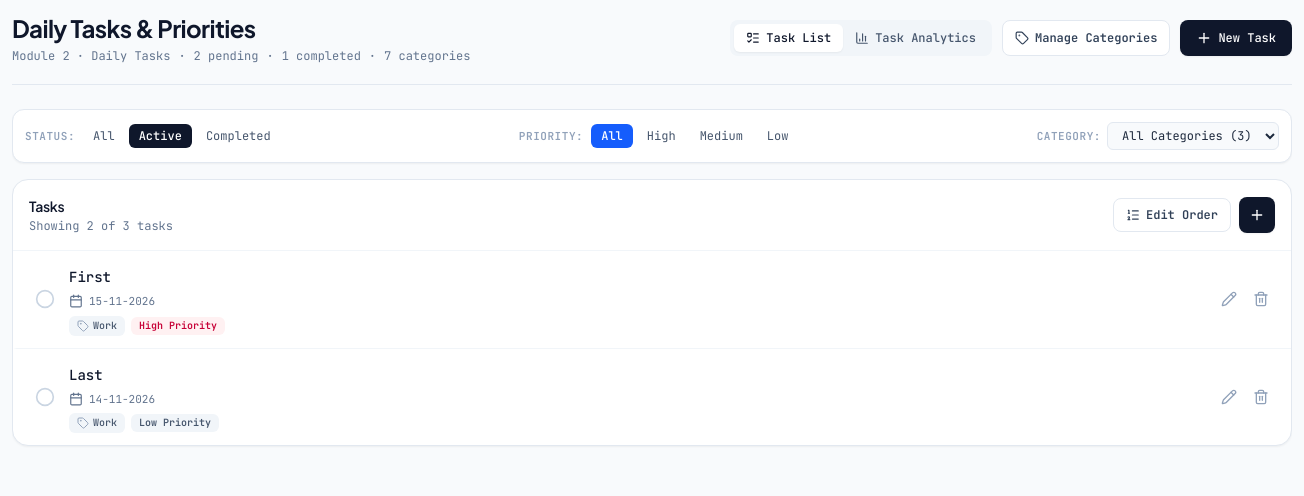
Test case: task ordering › shows a failure when saving order fails
Click the button "Edit Order".
click(1172, 215)  # box left=1113, top=198, right=1231, bottom=232
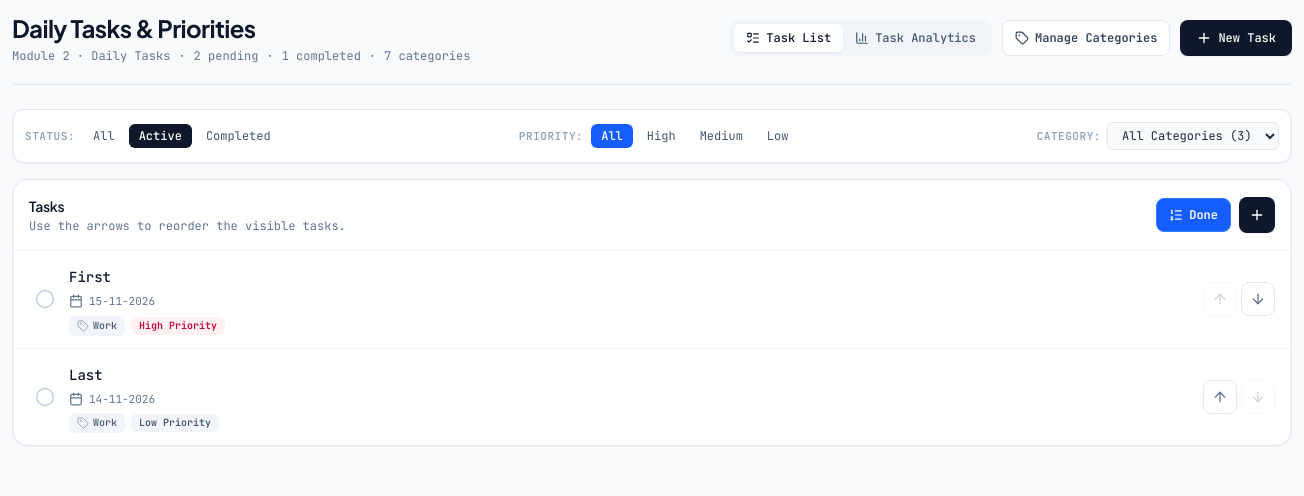
Click the button named "Move First down".
click(1258, 299)  # box left=1241, top=282, right=1275, bottom=316
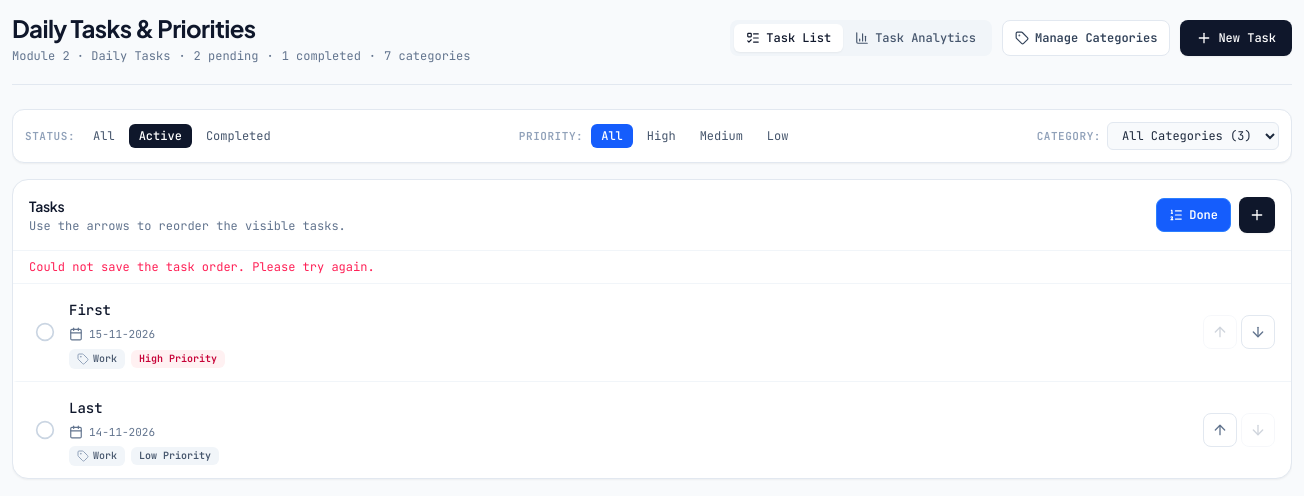
Expected: the message shows "Could not save", left=29, top=259, right=375, bottom=275
